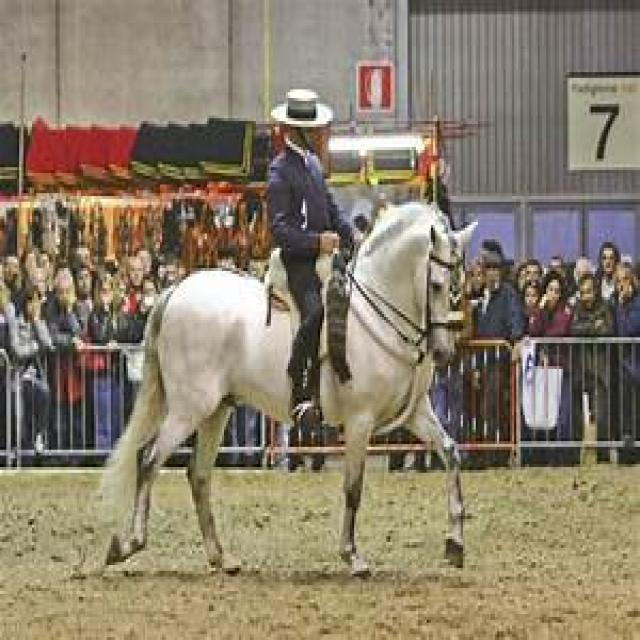animal: (98, 196, 476, 577)
